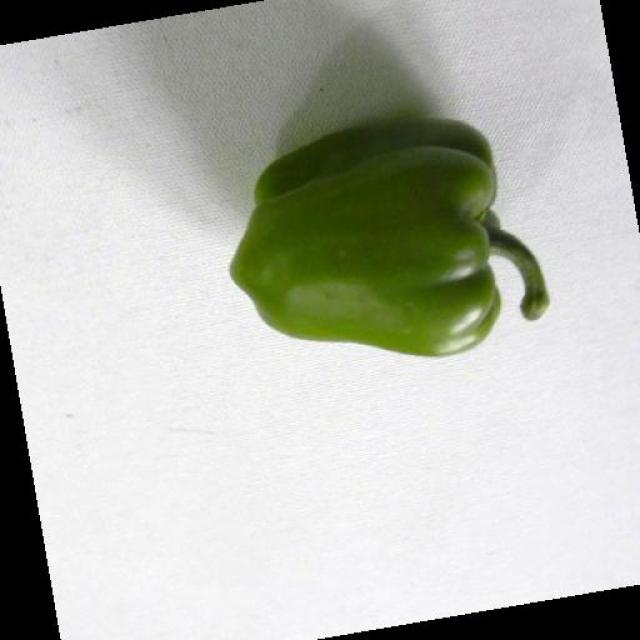Fresh_Capsicum: (186, 152, 551, 363)
